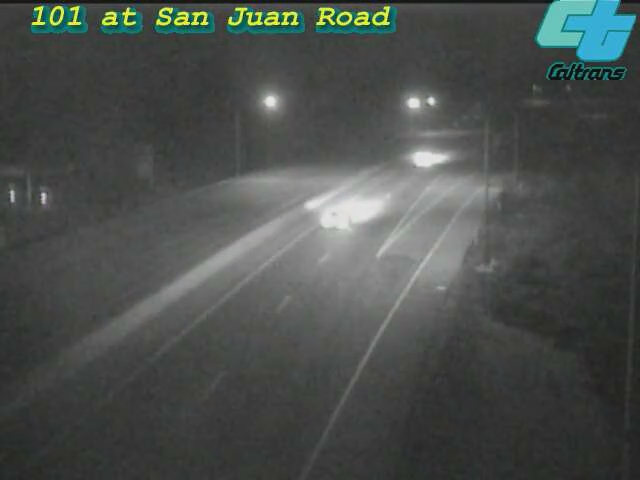vehicle: (381, 120, 461, 200), (291, 182, 371, 262)
